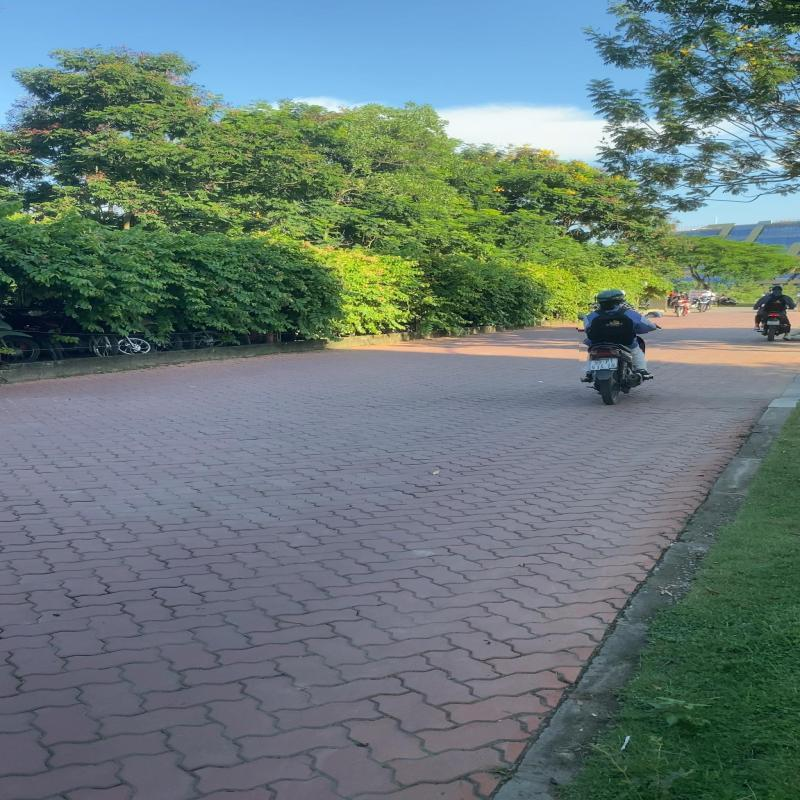helmet: (596, 288, 626, 305)
licenseplate: (589, 358, 619, 371)
motorcyclist: (578, 288, 660, 404)
